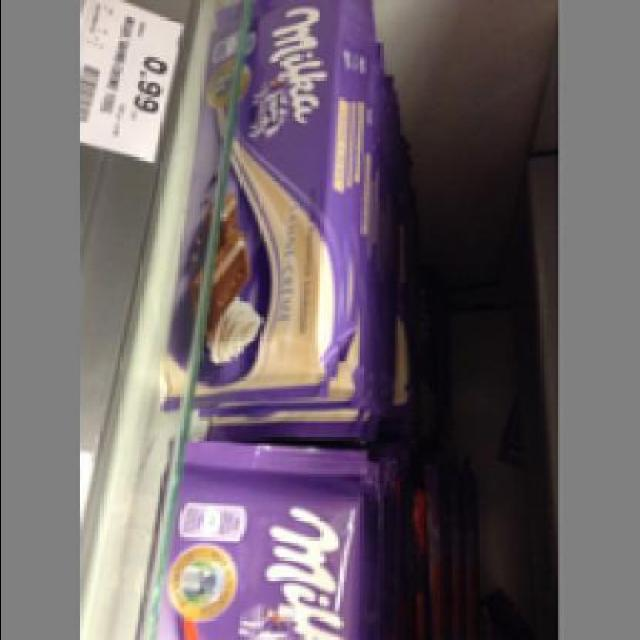Chocolate bar: (156, 1, 374, 412), (160, 432, 369, 636)
